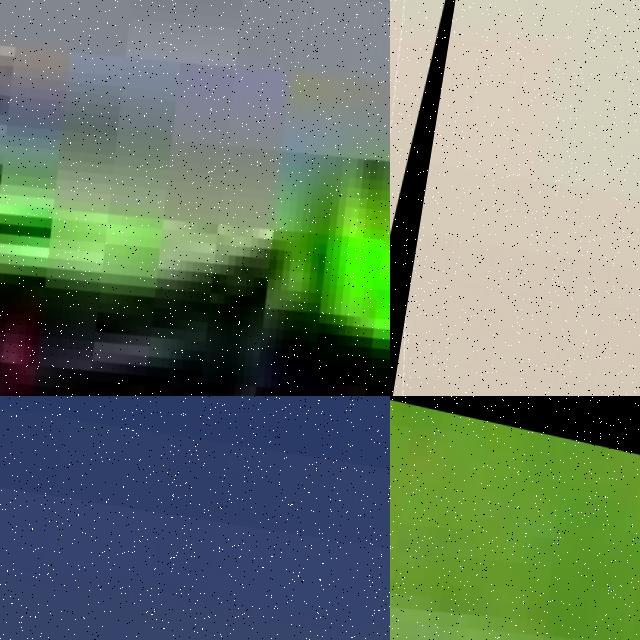drone: (0, 0, 390, 396), (390, 396, 640, 640), (390, 0, 478, 396)
